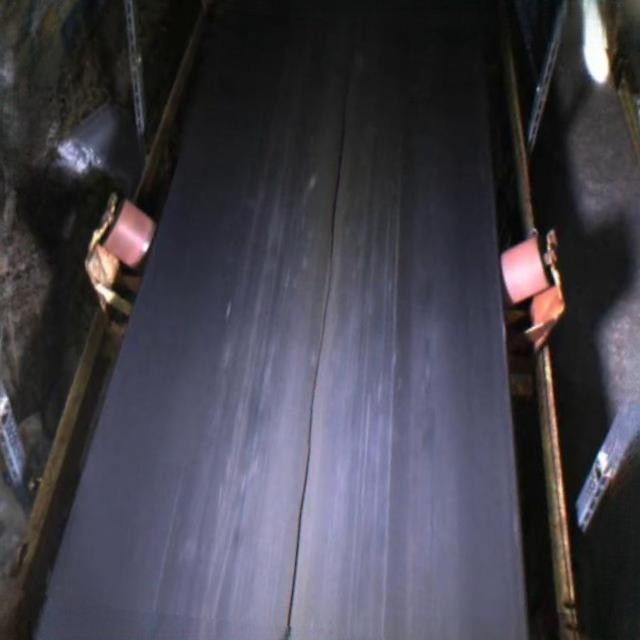Tear: (268, 145, 361, 632)
